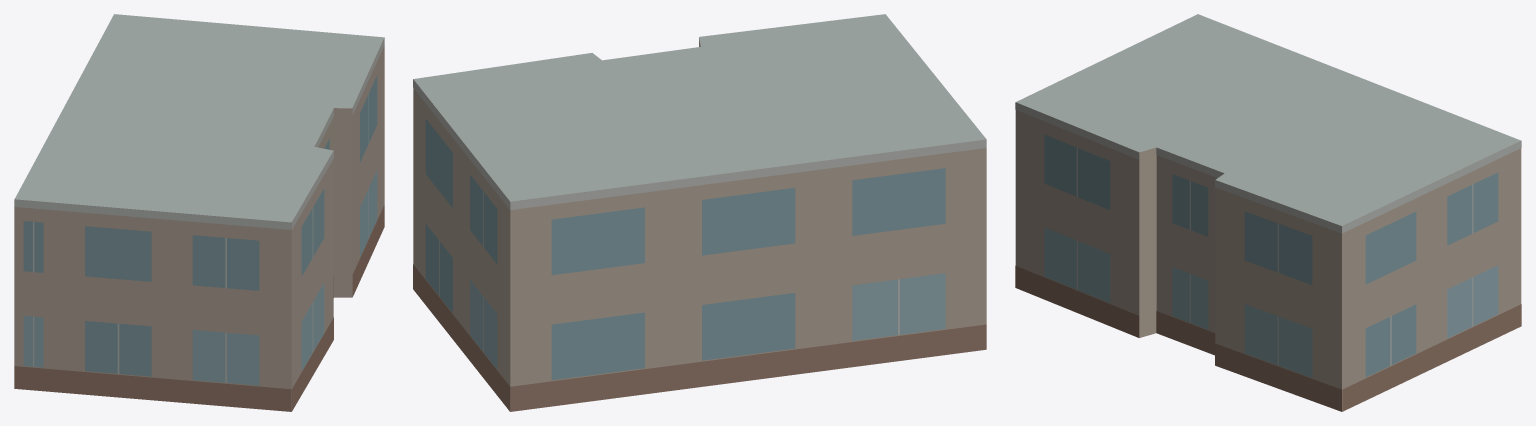
File: survey-upis-32682050.glb
The picture shows the model from 3 angles, left to right: view 1: azimuth 30°, elevation 25°; view 2: azimuth 150°, elevation 25°; view 3: azimuth 270°, elevation 25°; orthographic projection. The views are drawn at different scales.
Visible parts, largest first — view 1: survey-upis-32682050.tmp; view 2: survey-upis-32682050.tmp; view 3: survey-upis-32682050.tmp.
Boxes of the visible parts, <box> form: survey-upis-32682050.tmp: <box>14,14,384,411</box>; survey-upis-32682050.tmp: <box>413,14,986,411</box>; survey-upis-32682050.tmp: <box>1015,14,1521,411</box>.
Bounding box in the file's own units: 14.96 × 6.1 × 15.07.
